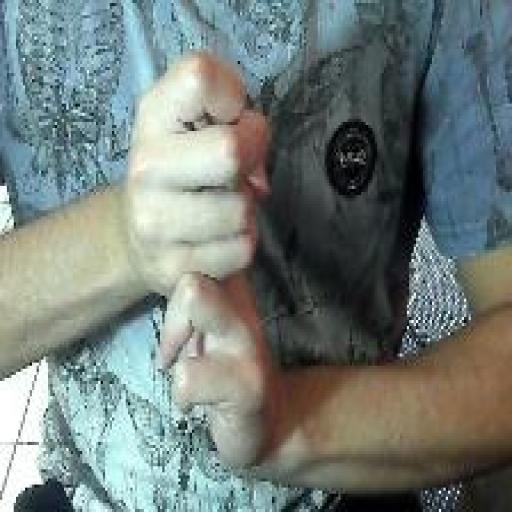Ne -rat-: (124, 44, 274, 477)
